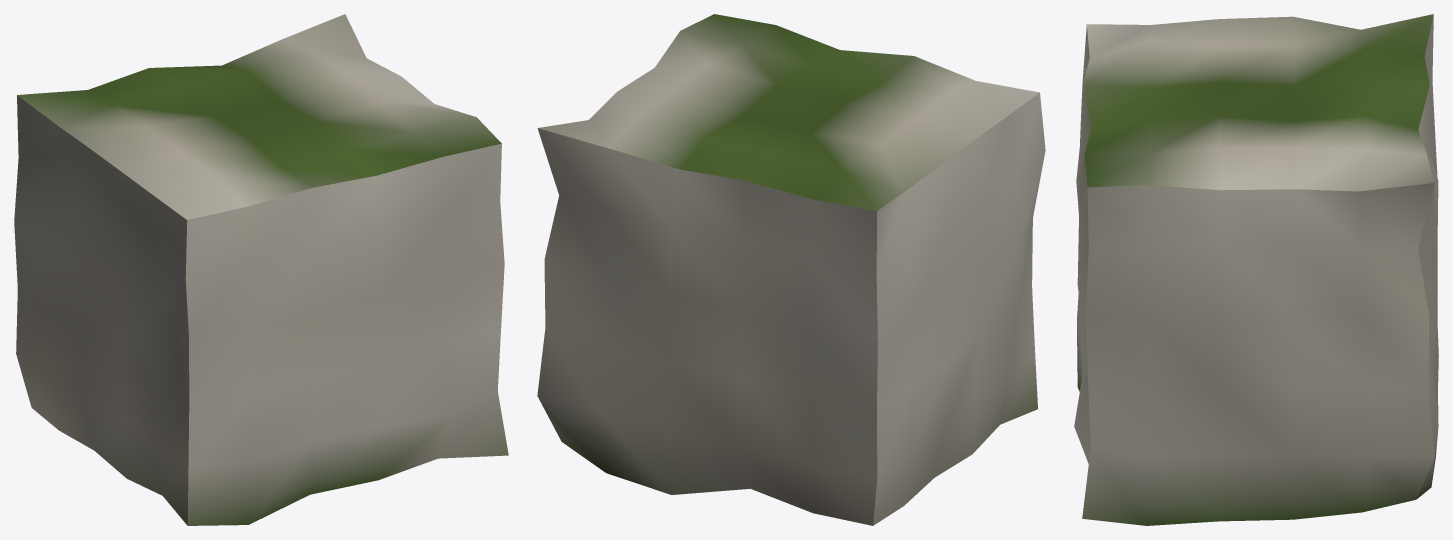
The model's file is block-a.glb.
The picture shows the model from 3 angles, left to right: view 1: azimuth 30°, elevation 25°; view 2: azimuth 150°, elevation 25°; view 3: azimuth 270°, elevation 25°; orthographic projection. The views are drawn at different scales.
Visible parts, largest first — view 1: block-a; view 2: block-a; view 3: block-a.
Boxes of the visible parts, x1,y1,x2,y2 form: block-a: (14,14,508,525); block-a: (537,14,1045,525); block-a: (1074,14,1438,525).
Bounding box in the file's own units: 0.3843 × 0.3585 × 0.3414.
